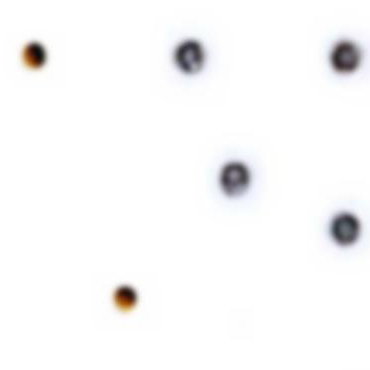cancer: (200, 142, 269, 217), (155, 28, 228, 92), (317, 194, 370, 256), (315, 30, 370, 81)
normal: (11, 36, 57, 75), (104, 279, 146, 319)
